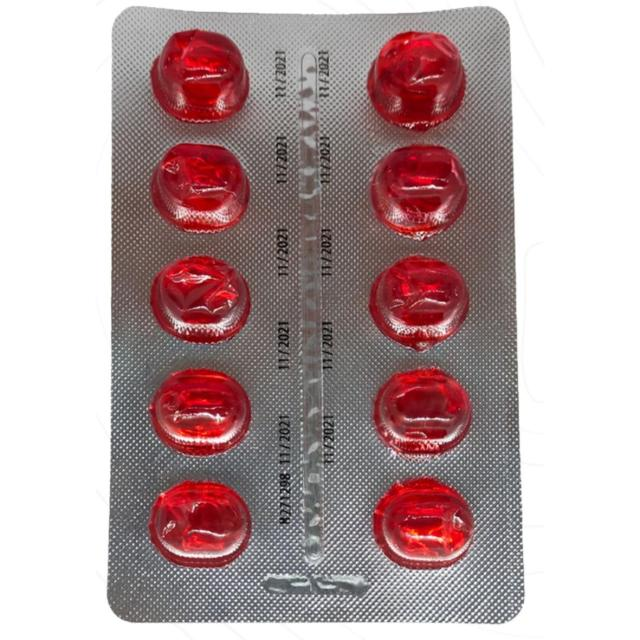blister: (96, 0, 534, 631)
